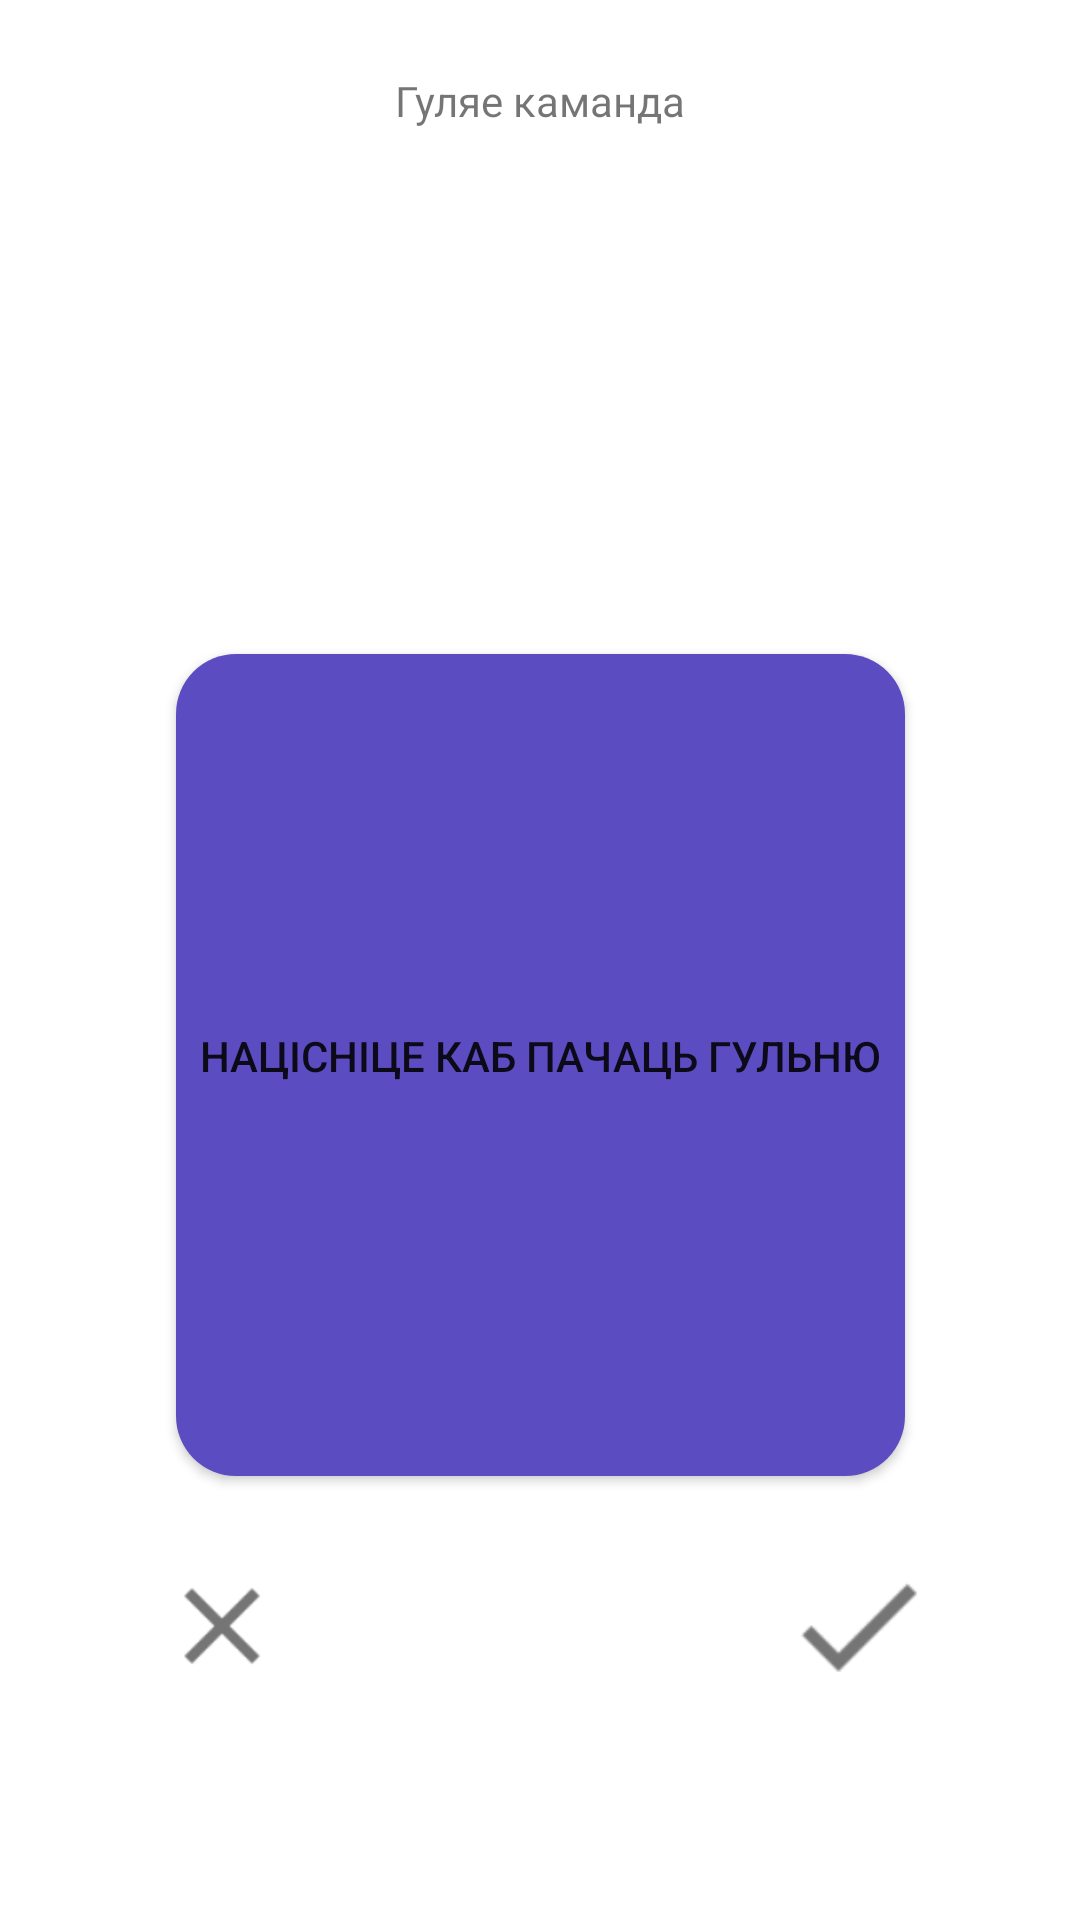

Icon click points for this 1080×1920 phone screenshot, format [x,y]:
accept: [859,1628]
close: [222,1626]
